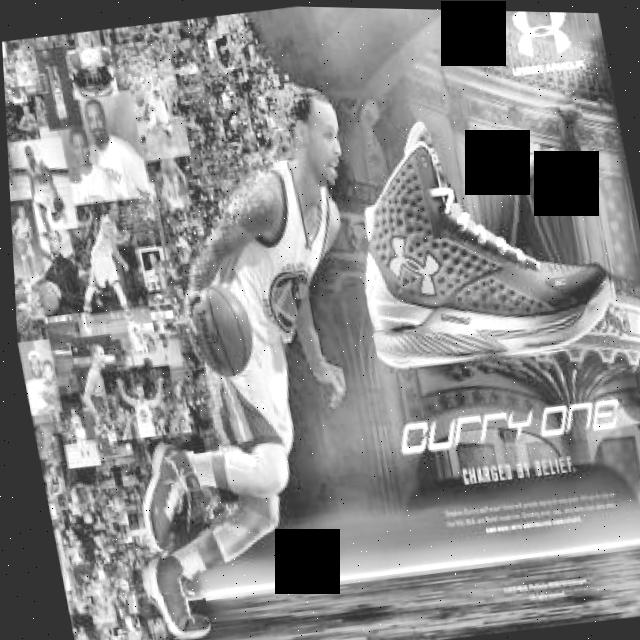shoe: (331, 96, 624, 377), (126, 433, 205, 544), (129, 549, 206, 640)
